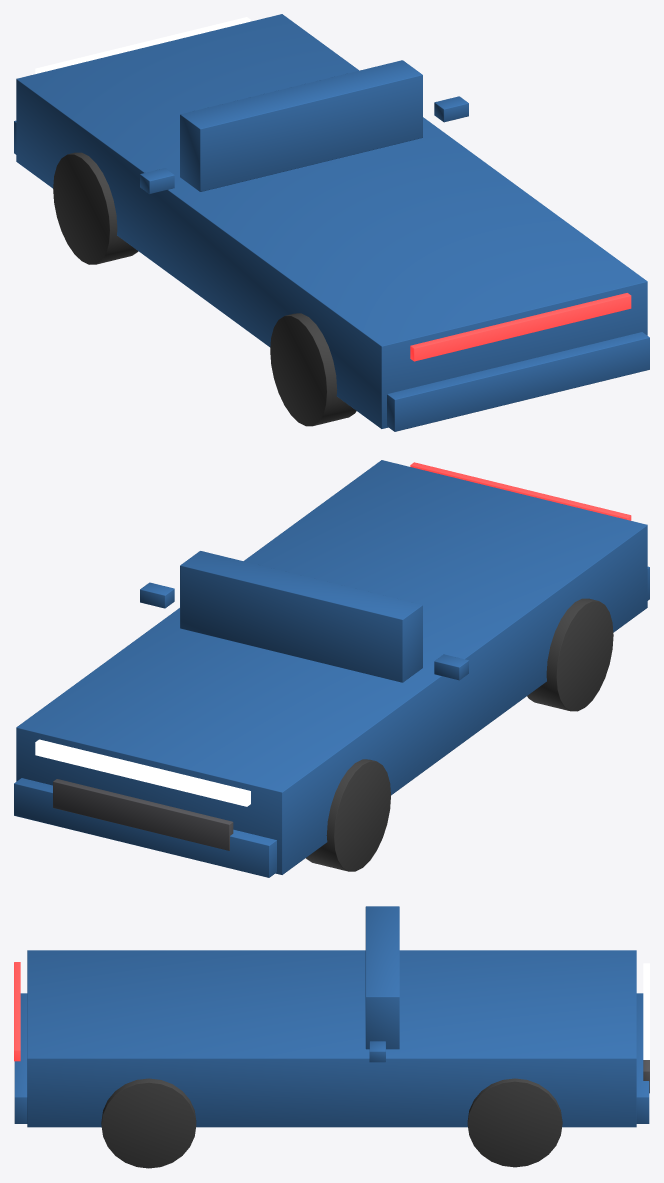
The model's file is vehicle.glb.
The picture shows the model from 3 angles, top to bottom: view 1: azimuth 30°, elevation 25°; view 2: azimuth 150°, elevation 25°; view 3: azimuth 270°, elevation 25°; orthographic projection. The views are drawn at different scales.
Parts seen in each view (by area): view 1: BODY_Main, BODY_Roof, BODY_Bumpers_Rear, WHEEL_RR_Tire, WHEEL_FR_Tire, LIGHT_Taillights, LIGHT_Headlights, BODY_Mirror_L, BODY_Mirror_R; view 2: BODY_Main, BODY_Roof, BODY_Bumpers_Front, WHEEL_RR_Tire, WHEEL_FR_Tire, BODY_Grille, LIGHT_Headlights, LIGHT_Taillights, BODY_Mirror_R, BODY_Mirror_L; view 3: BODY_Main, WHEEL_RL_Tire, WHEEL_FL_Tire, BODY_Roof, BODY_Bumpers_Rear, BODY_Bumpers_Front, LIGHT_Taillights, LIGHT_Headlights.
Part boxes in pixels (x1=…): BODY_Main: x1=16, y1=14, x2=647, y2=428; BODY_Roof: x1=180, y1=60, x2=422, y2=191; BODY_Bumpers_Rear: x1=387, y1=332, x2=649, y2=431; WHEEL_RR_Tire: x1=270, y1=313, x2=356, y2=426; WHEEL_FR_Tire: x1=53, y1=152, x2=138, y2=264; LIGHT_Taillights: x1=410, y1=293, x2=631, y2=361; LIGHT_Headlights: x1=35, y1=17, x2=250, y2=73; BODY_Mirror_L: x1=434, y1=96, x2=468, y2=122; BODY_Mirror_R: x1=140, y1=168, x2=174, y2=193; BODY_Main: x1=16, y1=460, x2=647, y2=874; BODY_Roof: x1=180, y1=551, x2=422, y2=682; BODY_Bumpers_Front: x1=14, y1=778, x2=276, y2=877; WHEEL_RR_Tire: x1=527, y1=598, x2=613, y2=711; WHEEL_FR_Tire: x1=306, y1=759, x2=390, y2=871; BODY_Grille: x1=53, y1=779, x2=233, y2=850; LIGHT_Headlights: x1=35, y1=739, x2=250, y2=806; LIGHT_Taillights: x1=410, y1=462, x2=631, y2=520; BODY_Mirror_R: x1=434, y1=654, x2=468, y2=680; BODY_Mirror_L: x1=140, y1=582, x2=174, y2=608; BODY_Main: x1=27, y1=950, x2=636, y2=1127; WHEEL_RL_Tire: x1=101, y1=1078, x2=196, y2=1168; WHEEL_FL_Tire: x1=467, y1=1078, x2=562, y2=1167; BODY_Roof: x1=365, y1=906, x2=399, y2=1049; BODY_Bumpers_Rear: x1=14, y1=993, x2=27, y2=1123; BODY_Bumpers_Front: x1=636, y1=993, x2=649, y2=1123; LIGHT_Taillights: x1=14, y1=962, x2=20, y2=1061; LIGHT_Headlights: x1=643, y1=963, x2=649, y2=1059.
Size of the model in its own units: 2.27 by 1.29 by 4.69.
